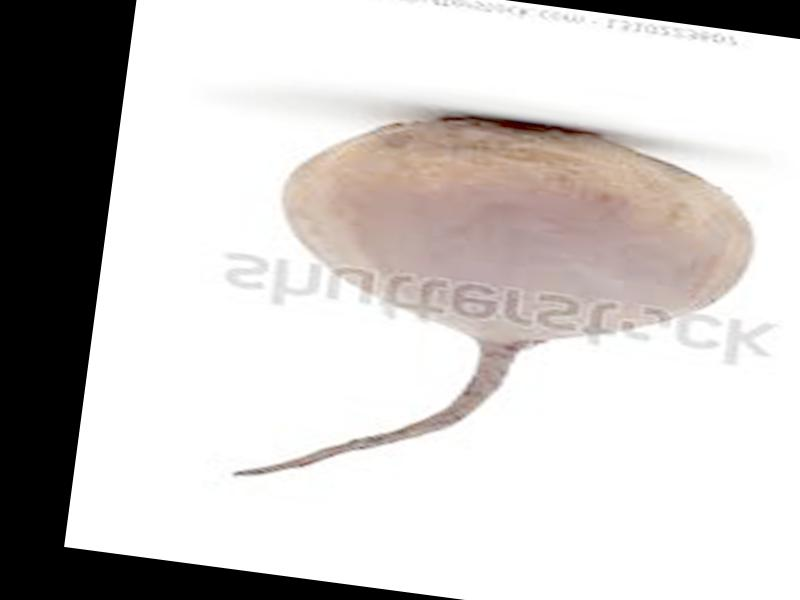Beet: (233, 88, 772, 541)
